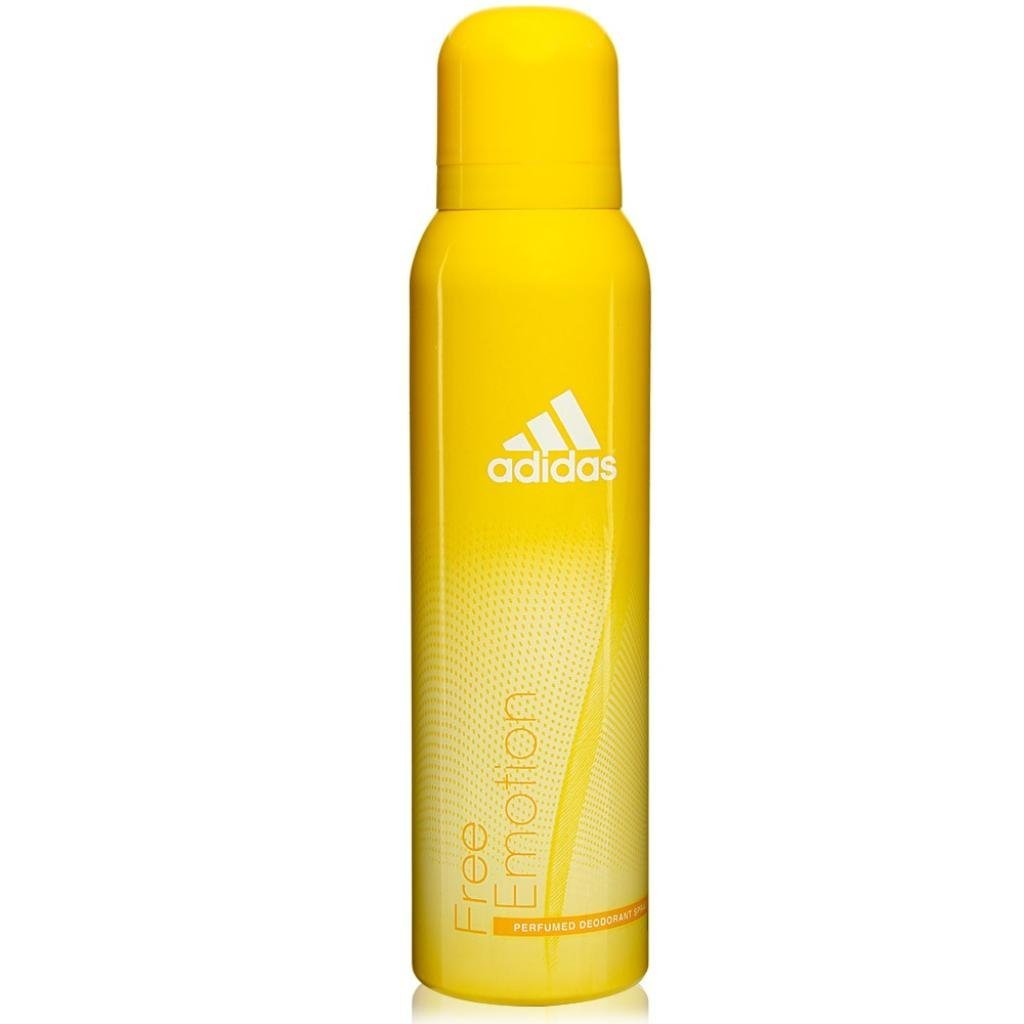Adidas: (482, 386, 625, 487)
